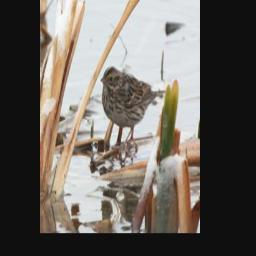Sparrow: (99, 64, 166, 156)
